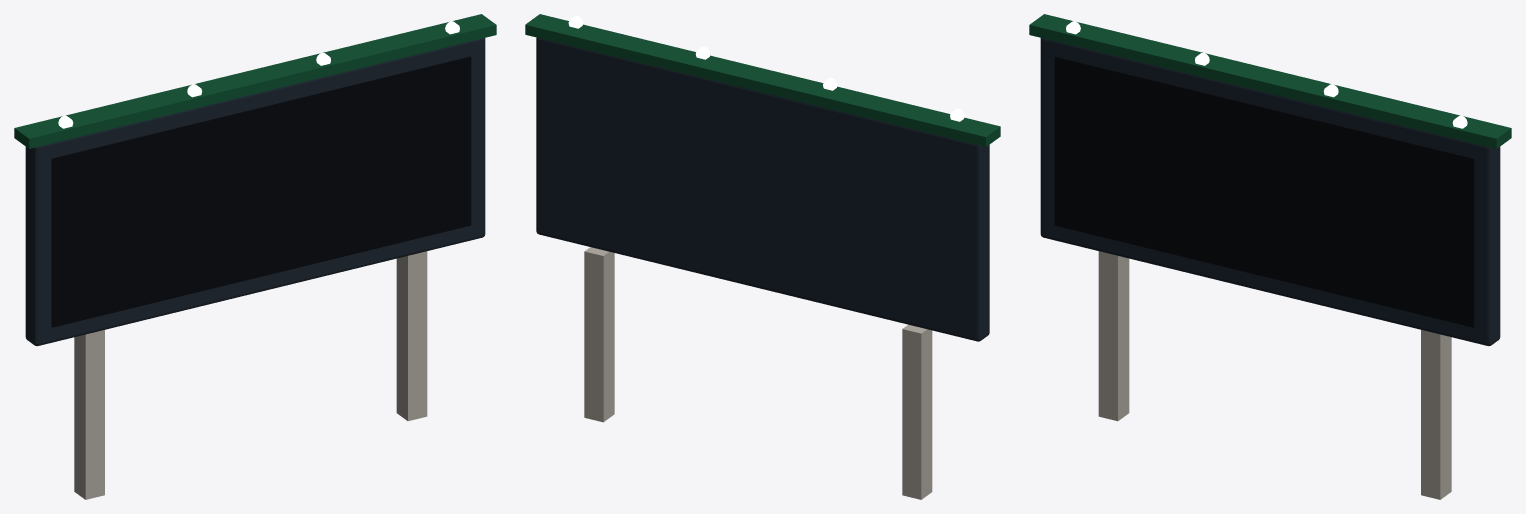
File: scoreboard.glb
3 renders of one model, left to right at view 1: azimuth 30°, elevation 25°; view 2: azimuth 150°, elevation 25°; view 3: azimuth 330°, elevation 25°, orthographic.
Visible parts, largest first — view 1: bb_scoreboard; view 2: bb_scoreboard; view 3: bb_scoreboard.
Part boxes in pixels (x1,y1,x2,y2): bb_scoreboard: (14,14,496,499); bb_scoreboard: (525,14,1000,499); bb_scoreboard: (1029,14,1511,499).
Size of the model in its own units: 29 by 23.15 by 1.9.
